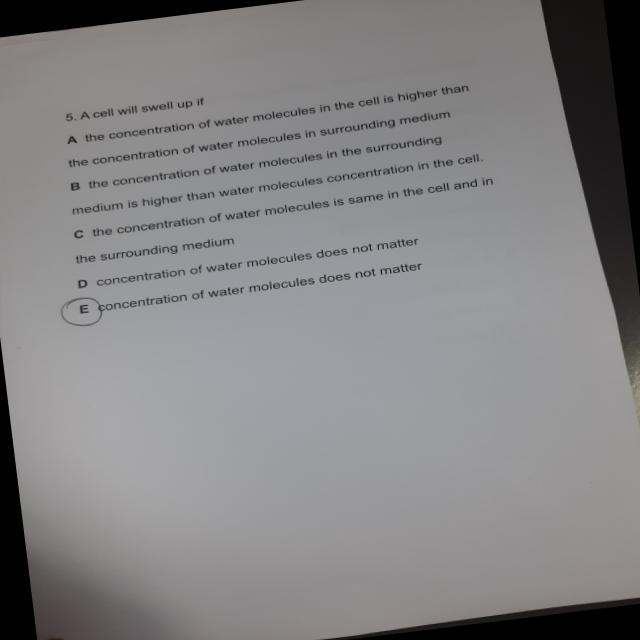E: (57, 295, 109, 333)
